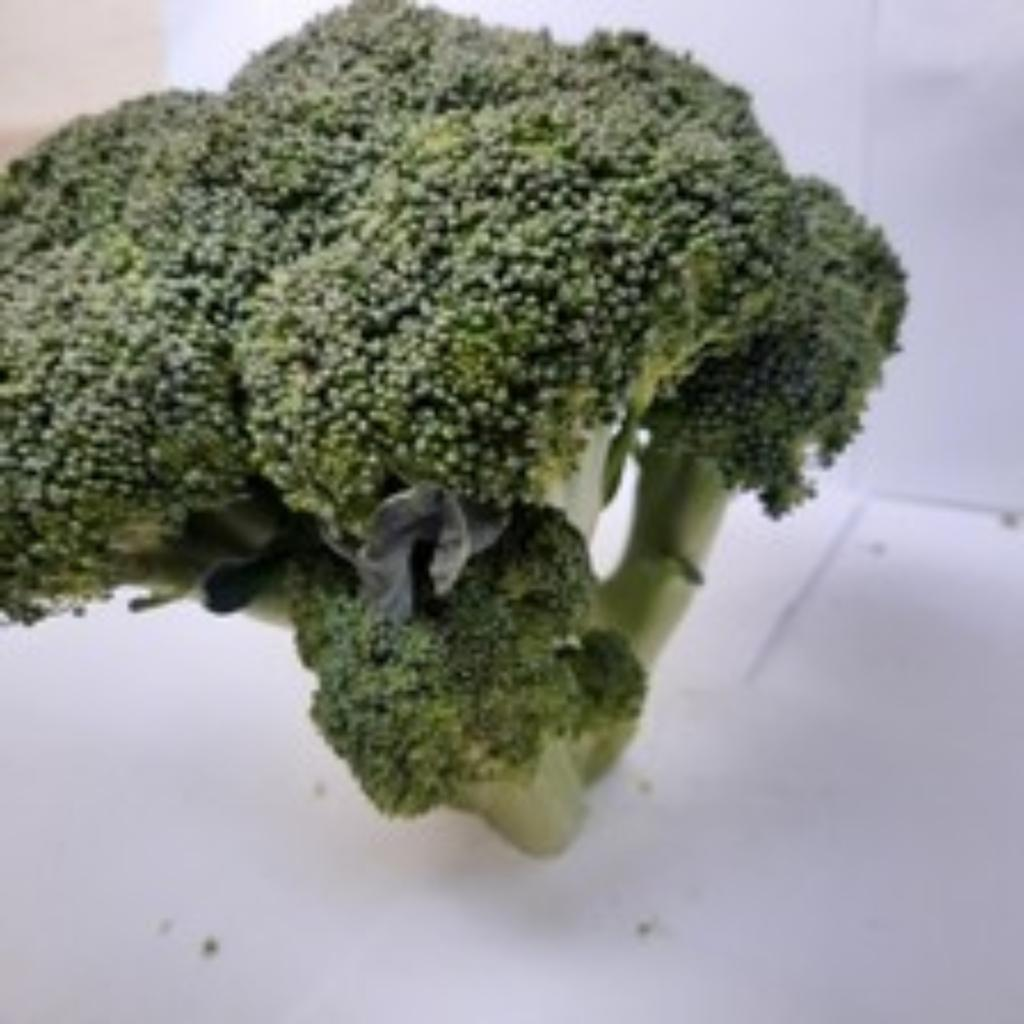Broccoli: (0, 0, 906, 851), (0, 0, 904, 811)
